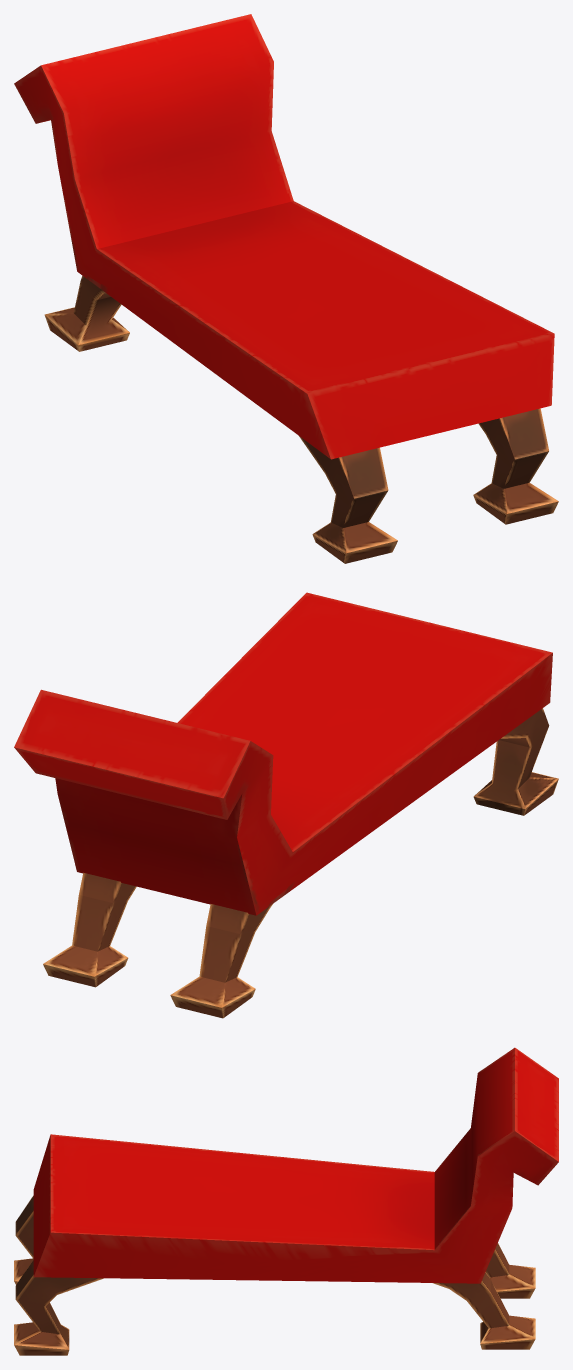
The model's file is Rome_Village_Props_14.FBX.
The picture shows the model from 3 angles, top to bottom: view 1: azimuth 30°, elevation 25°; view 2: azimuth 150°, elevation 25°; view 3: azimuth 270°, elevation 25°; orthographic projection. The views are drawn at different scales.
Visible parts, largest first — view 1: Rome_Village_Props_14; view 2: Rome_Village_Props_14; view 3: Rome_Village_Props_14.
Part boxes in pixels (x1,y1,x2,y2): Rome_Village_Props_14: (14,14,558,563); Rome_Village_Props_14: (14,592,558,1018); Rome_Village_Props_14: (14,1047,558,1355).
Bounding box in the file's own units: 87.13 × 93.03 × 204.
